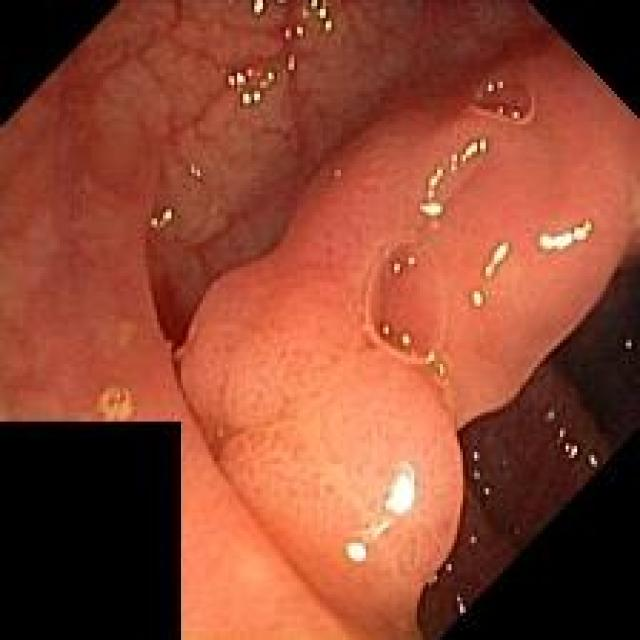Polyps: (175, 37, 640, 638)
